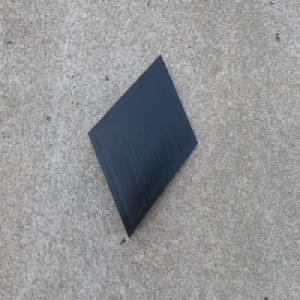PlasticPart: (86, 52, 198, 240)
